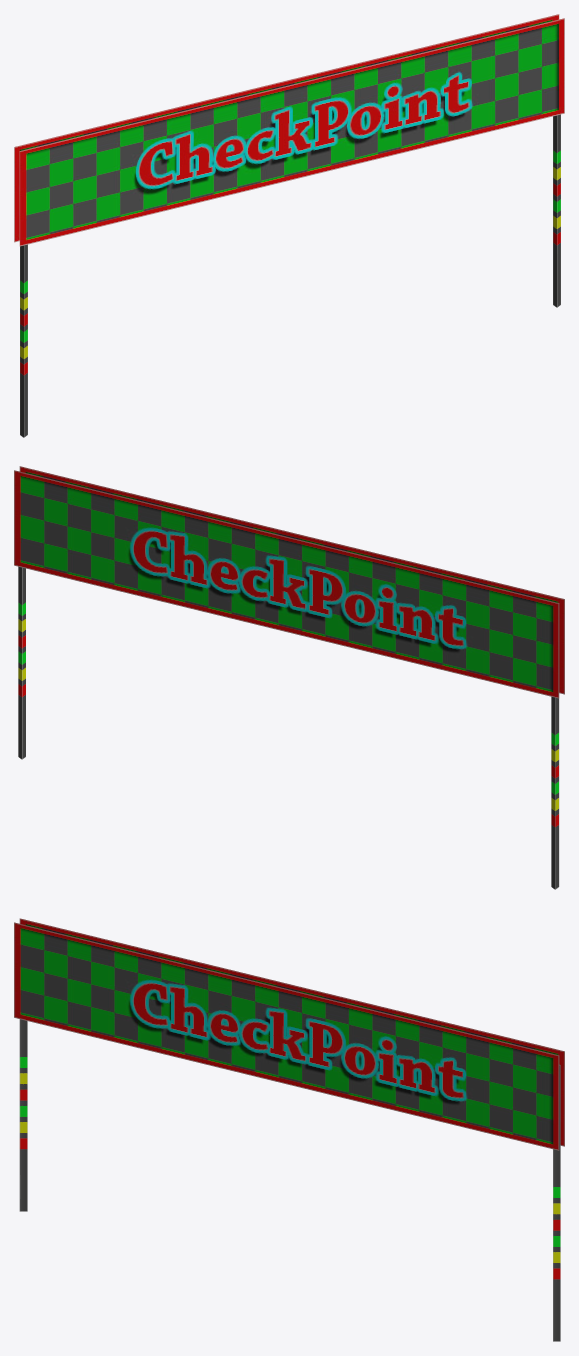
File: CheckPoint.fbx
3 views of the same model, one above another, from view 1: azimuth 30°, elevation 25°; view 2: azimuth 150°, elevation 25°; view 3: azimuth 330°, elevation 25° (orthographic).
Visible parts, largest first — view 1: CheckPoint; view 2: CheckPoint; view 3: CheckPoint.
Boxes of the visible parts, left/top/right/bottom form: CheckPoint: left=14, top=14, right=564, bottom=437; CheckPoint: left=14, top=466, right=564, bottom=889; CheckPoint: left=14, top=918, right=564, bottom=1341.
Size of the model in its own units: 166 by 84.03 by 2.92.
1 material, 1 textured.
